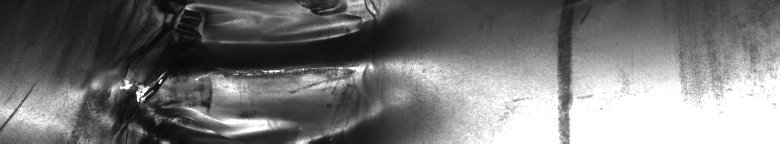ke: (4, 4, 401, 136)
